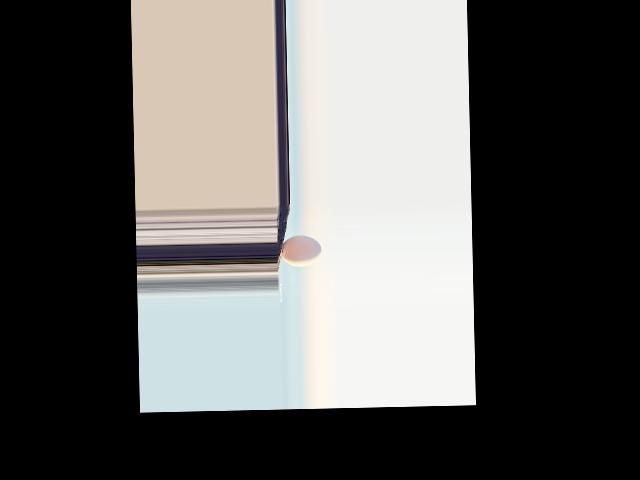egg: (281, 234, 321, 267)
